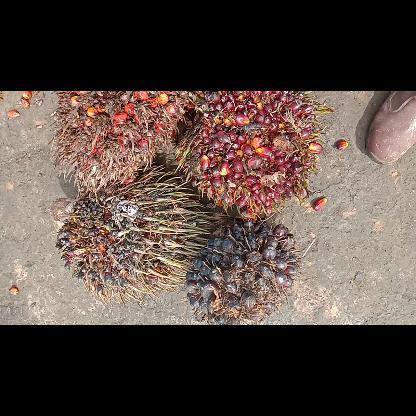TBS abnormal: (54, 166, 208, 300)
TBS masak: (176, 90, 322, 220)
TBS mentah: (185, 220, 297, 324)
Terlalu masak: (55, 91, 187, 189)
